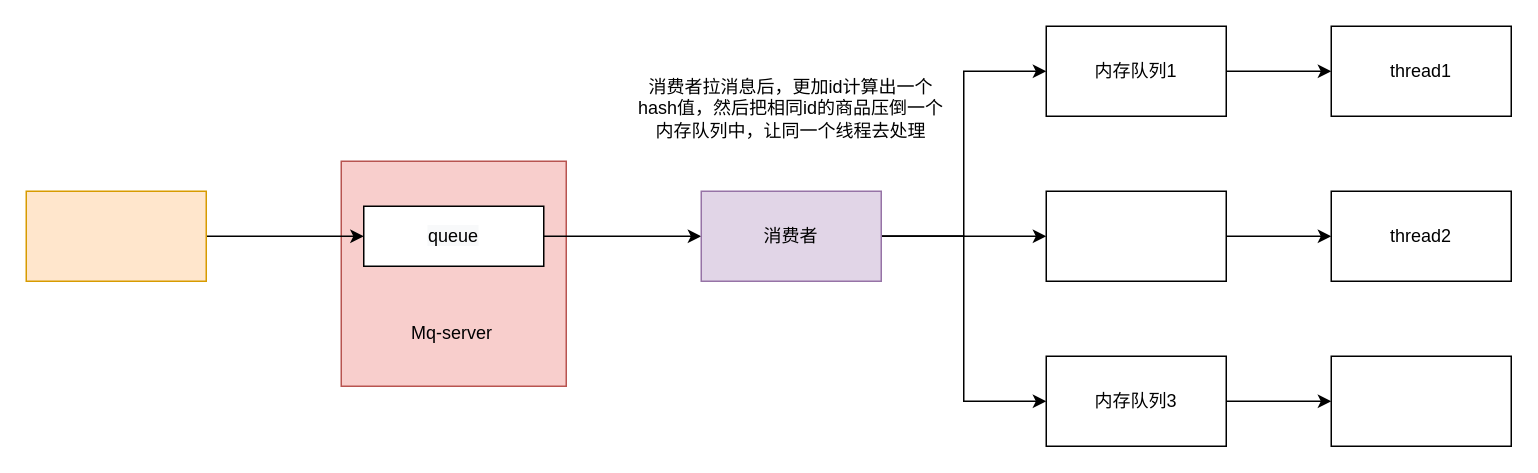
Image size: 1538x473. Some labels were removed from this diagram. Here are the shapes that lost their labels. From the top down, the centre of each, then its label:
At point (115, 235): "生产者".
At point (1135, 235): "内存队列2".
At point (1420, 400): "thread3".
